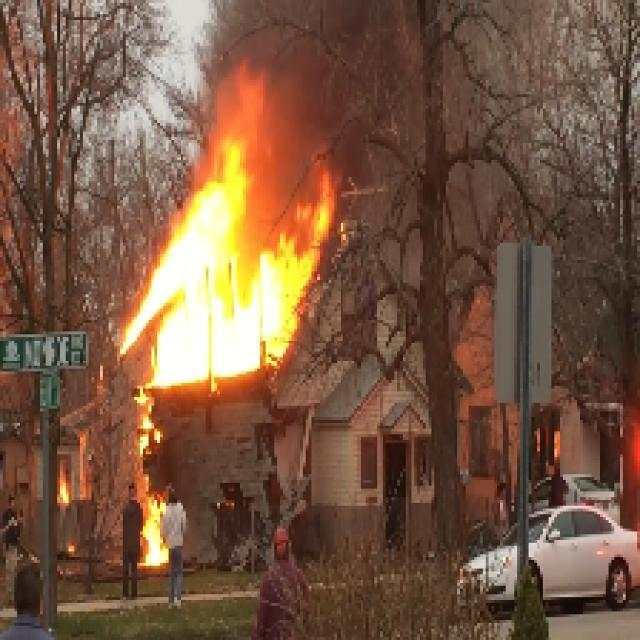Fire: (140, 164, 324, 384)
